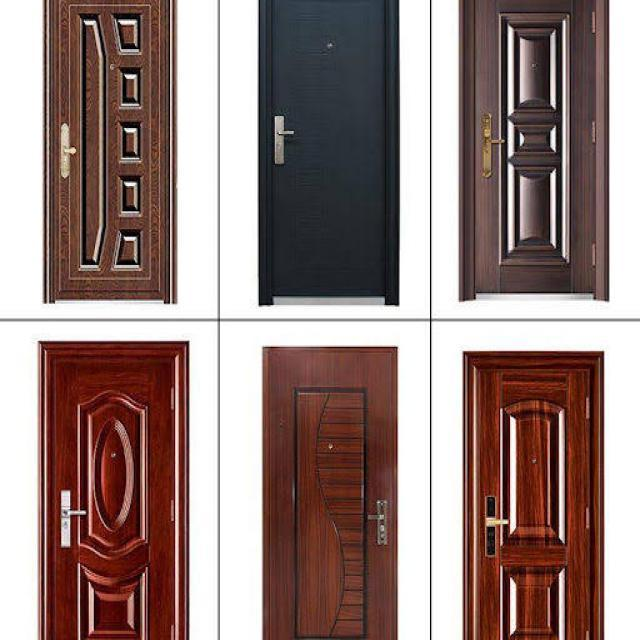door: (42, 4, 170, 302)
